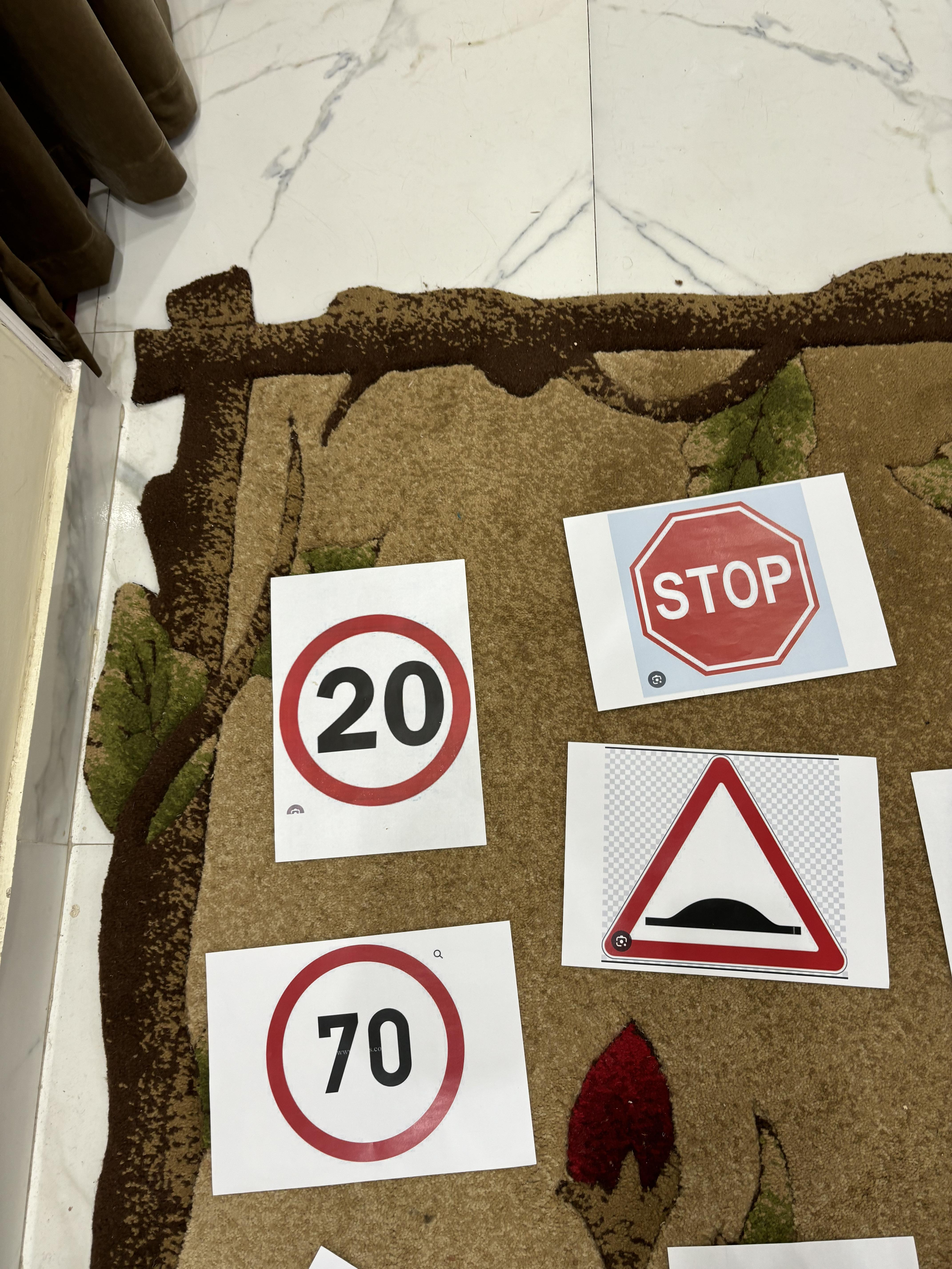20-Speed: (276, 605, 477, 810)
70-Speed: (269, 936, 466, 1165)
Hump: (598, 751, 850, 981)
Stop: (634, 491, 825, 678)
